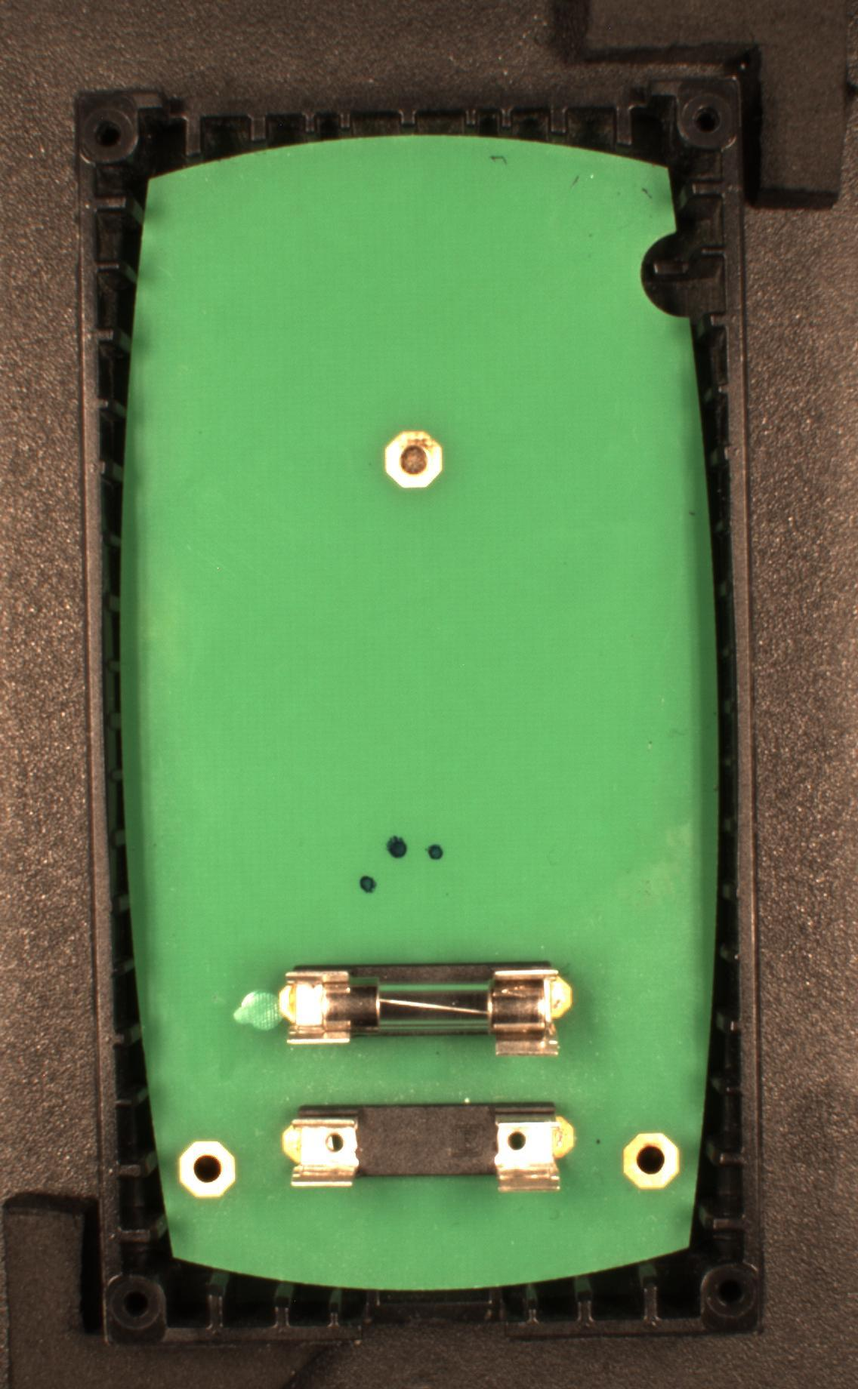Nepostojanje osiguraca: (278, 1098, 578, 1195)
Tockasto Ostecenje: (384, 834, 408, 860), (360, 874, 378, 895), (425, 843, 446, 860)
